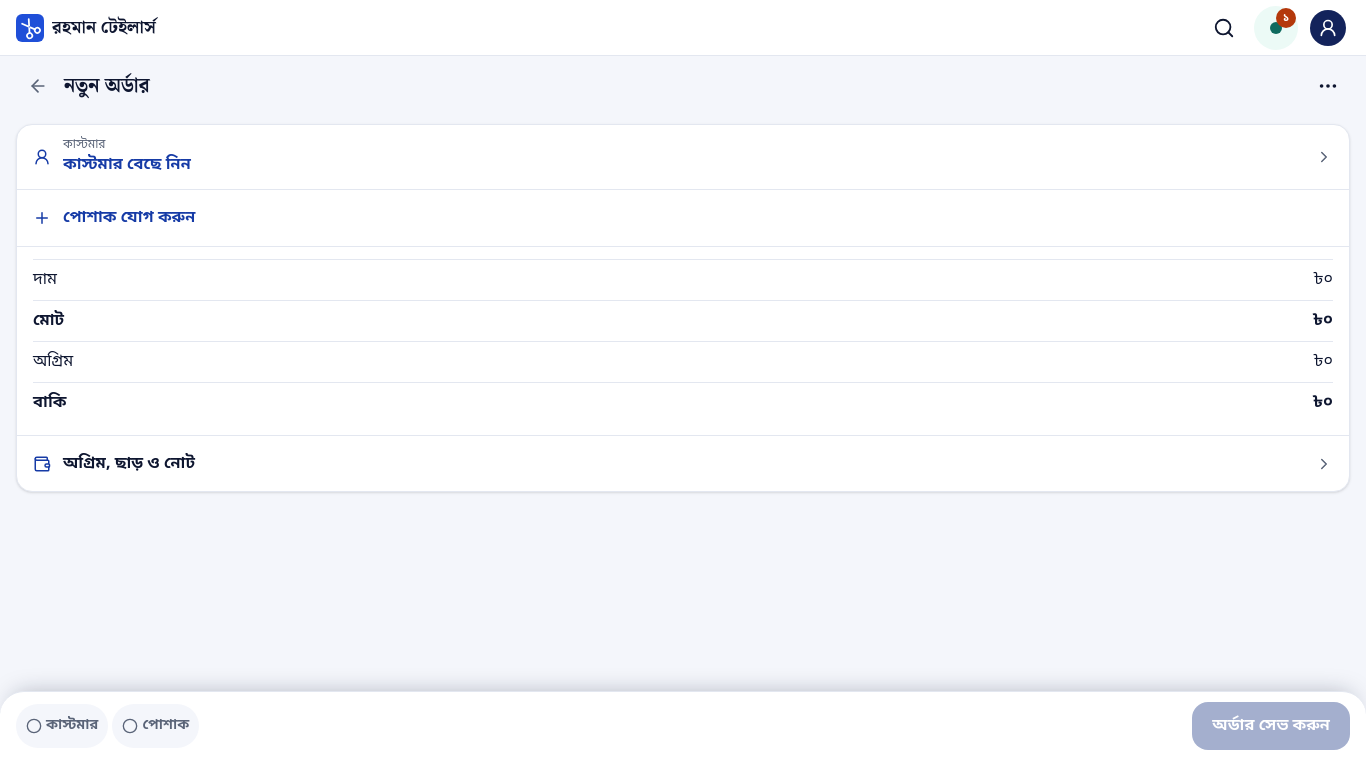
Scenario: Order entry on a phone › asks for a delivery date on a garment whose date was cleared, and opens on the date
Click the button "পোশাক যোগ করুন" at (129, 218), box [17,190,1349,246]
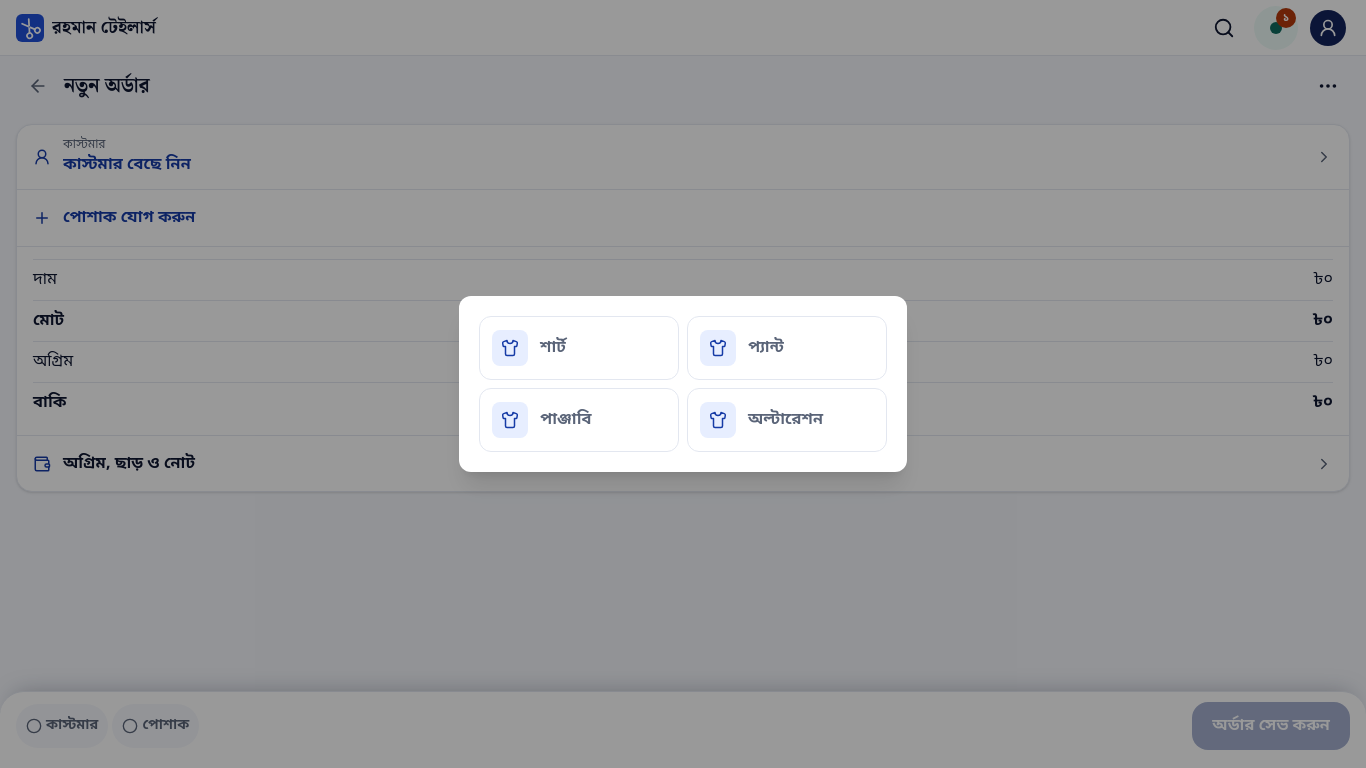
Click the button "শার্ট" at (579, 348), box [479,316,679,380]
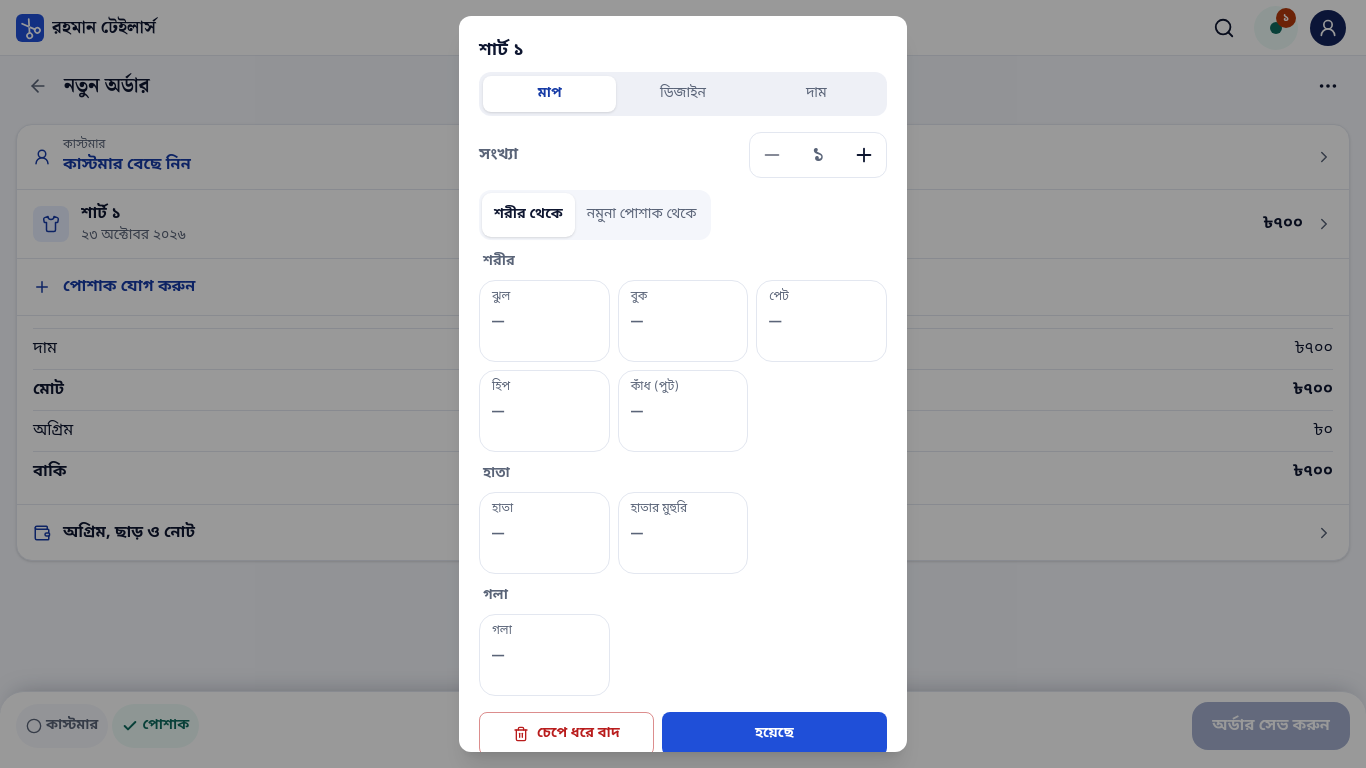
Click the radio button labelled "দাম" at (816, 94), box [750,76,883,112]
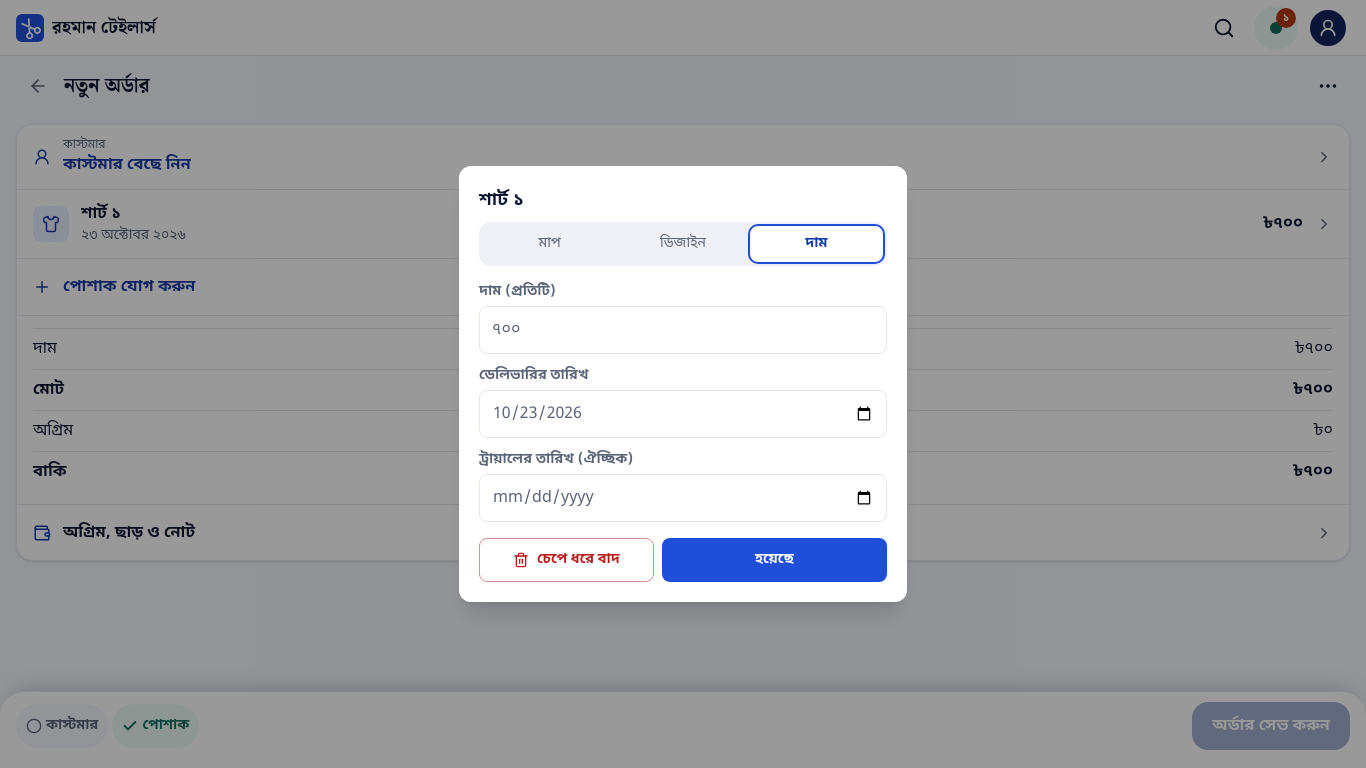
Clear the date field labelled "ডেলিভারির তারিখ" at (683, 414), box [480,394,886,434]
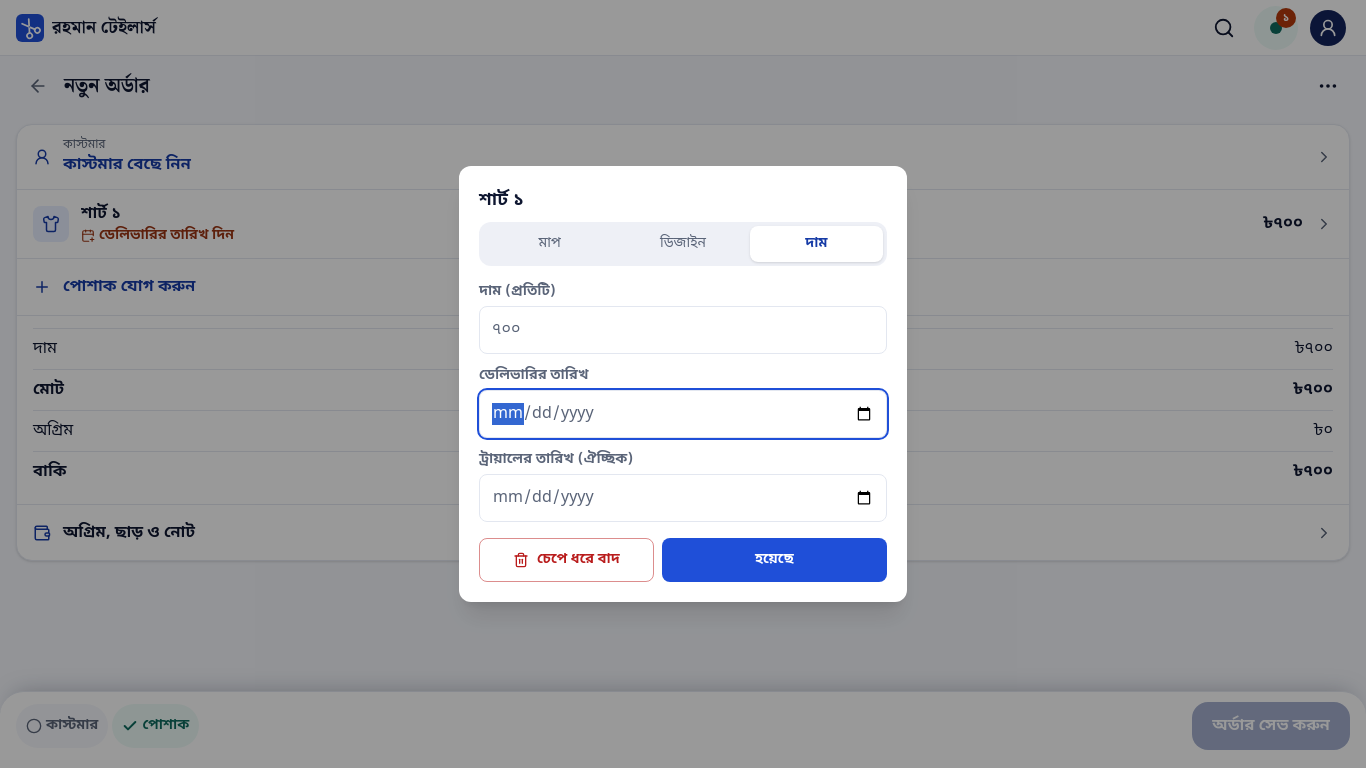
Click the button "হয়েছে" at (774, 560), box [662,538,887,582]
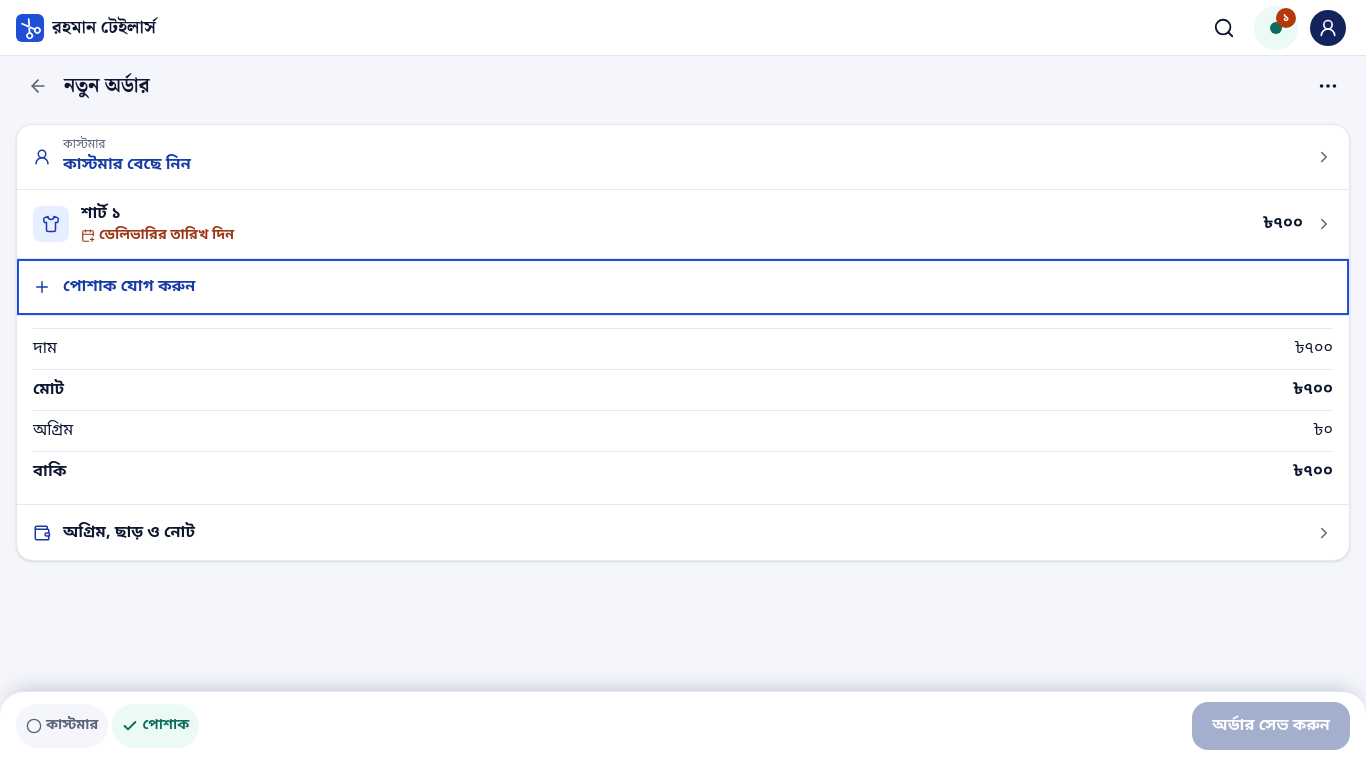
Expected: the button "শার্ট ১" does not show "·"
Now the button "শার্ট ১ ডেলিভারির তারিখ দিন ৳৭০০" is shown
Click the button "শার্ট ১ ডেলিভারির তারিখ দিন ৳৭০০" at (51, 224), box [17,190,1349,258]
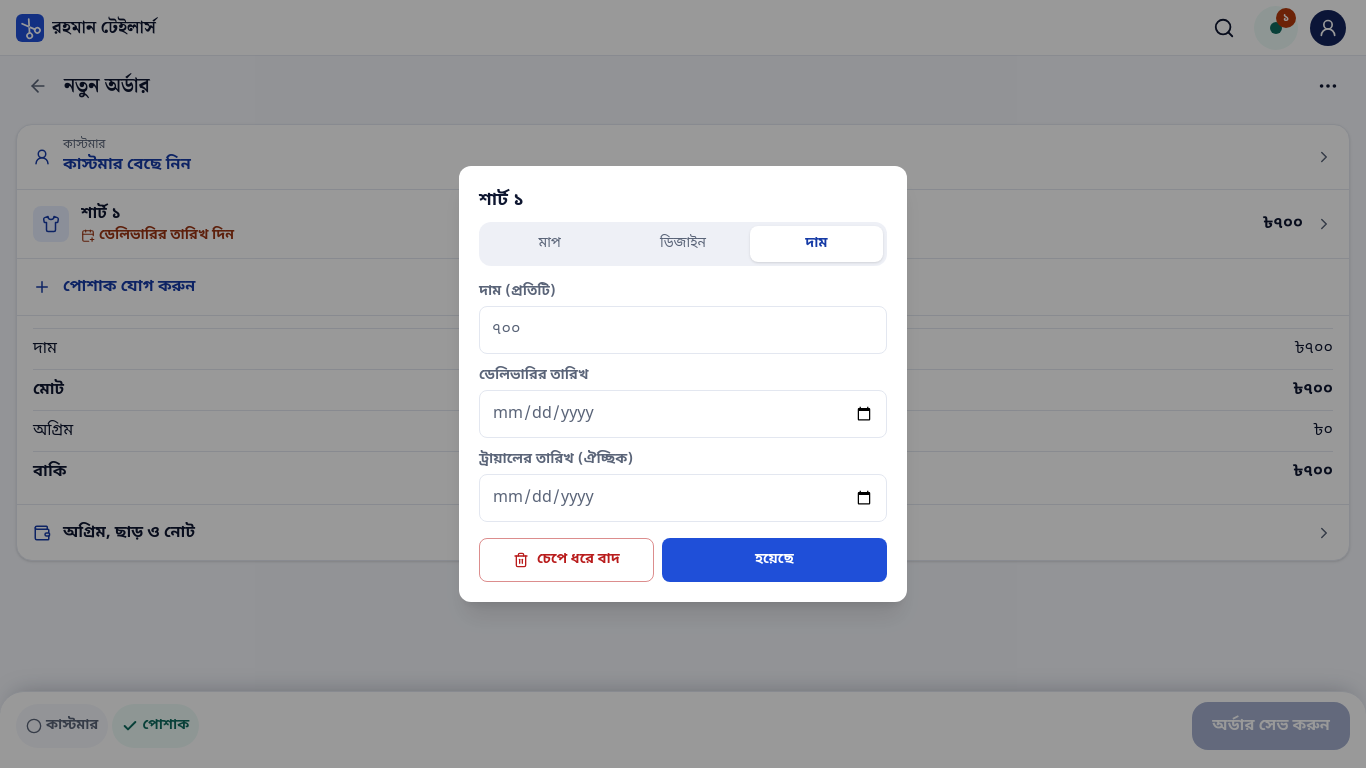
Now the date field labelled "ডেলিভারির তারিখ" is shown, box [480,394,886,434]
